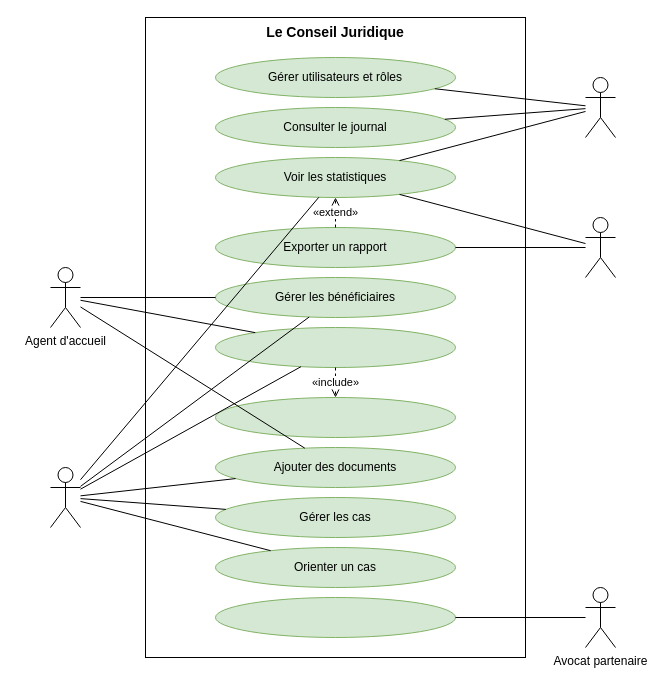
Image size: 665x686. Some labels were removed from this diagram. The shapes that lost their labels are listed below. From the top down, each one's box as (x1, y1, x2, y2) in pixels, then its label:
(584, 76, 616, 138): Administrateur
(584, 216, 616, 278): Direction / bailleur
(214, 326, 456, 368): Gérer les rendez-vous
(214, 396, 456, 438): Envoyer un rappel
(50, 466, 80, 528): Juriste / conseiller
(214, 596, 456, 638): Consulter un cas référé
